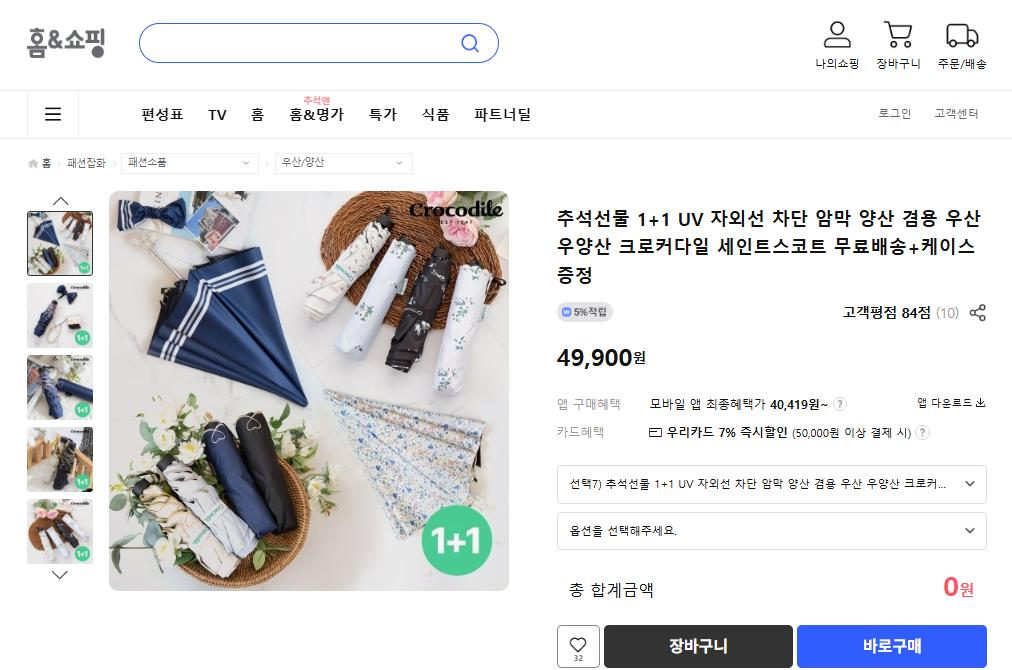button: (600, 623, 790, 665), (799, 627, 994, 665), (25, 356, 96, 418), (23, 501, 98, 559), (28, 211, 94, 276), (26, 428, 94, 491), (27, 286, 92, 351), (934, 17, 997, 81), (813, 19, 861, 73), (873, 19, 922, 69), (135, 101, 191, 135), (551, 632, 600, 670), (912, 392, 988, 415), (37, 93, 79, 133), (286, 101, 348, 126), (488, 107, 555, 123), (417, 105, 464, 126), (936, 104, 978, 125), (878, 98, 913, 121), (245, 107, 275, 127), (964, 295, 985, 322), (199, 111, 230, 129), (370, 107, 398, 125)
checkbox: (557, 514, 980, 549), (564, 468, 978, 501)
input_field: (141, 23, 498, 64)
